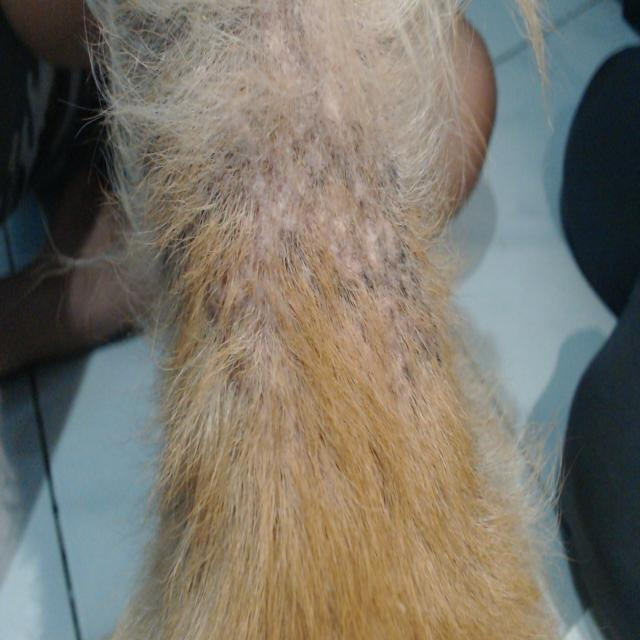demodicosis: (208, 87, 411, 379)
